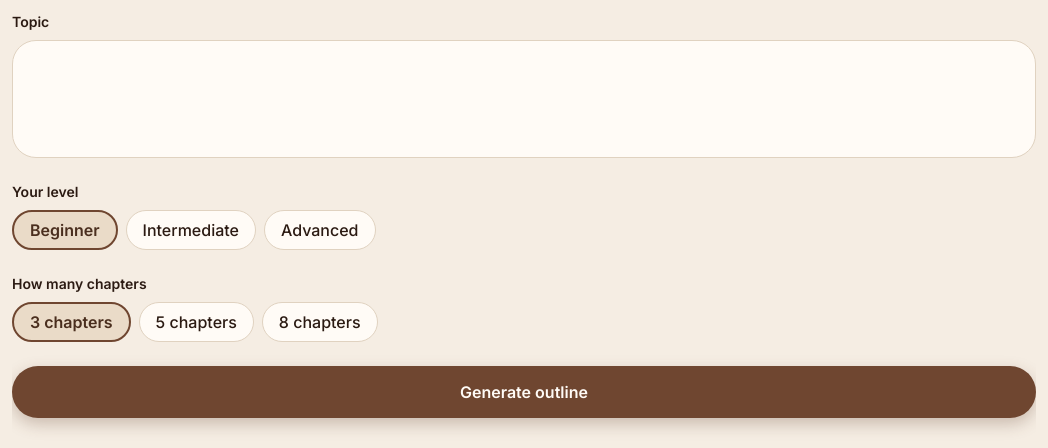
Test: NewModuleForm › submitting sends the topic, level and length, and navigates to the outline on success
Type "Stoicism" into the text box labelled "Topic".
click(524, 99); type("Stoicism")  # box x1=12 y1=40 x2=1036 y2=158
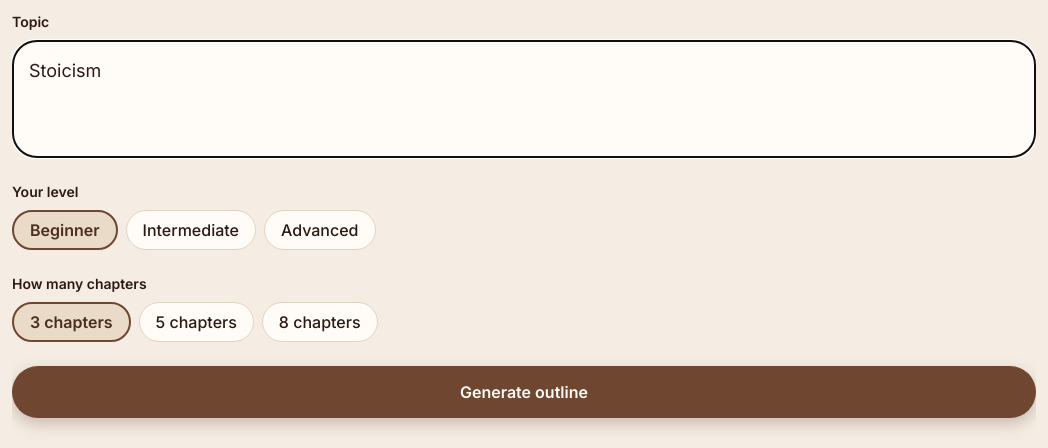
Click the button "Intermediate".
click(191, 230)  # box x1=126 y1=210 x2=256 y2=250
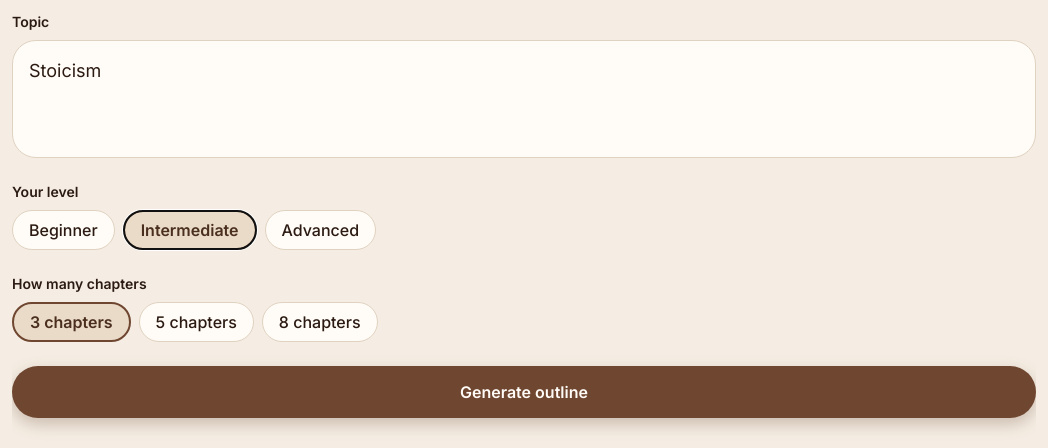
Click the button "8 chapters".
click(320, 322)  # box x1=262 y1=302 x2=378 y2=342
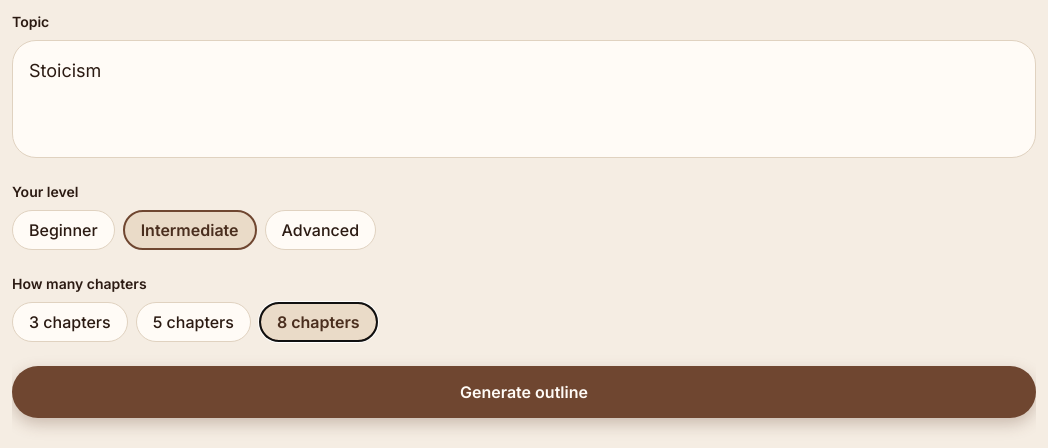
Click the button "Generate outline".
click(524, 392)  # box x1=12 y1=366 x2=1036 y2=418
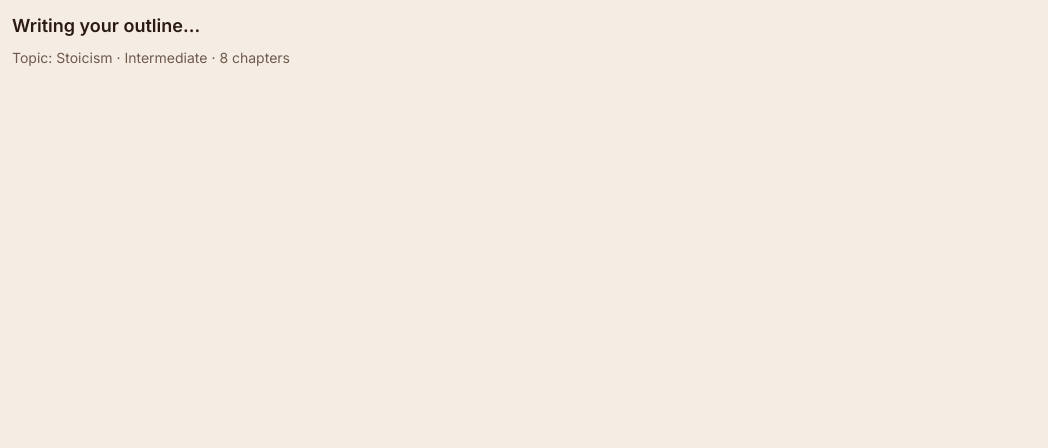
Check: the message shows "Stoicism", box x1=56 y1=49 x2=113 y2=66
